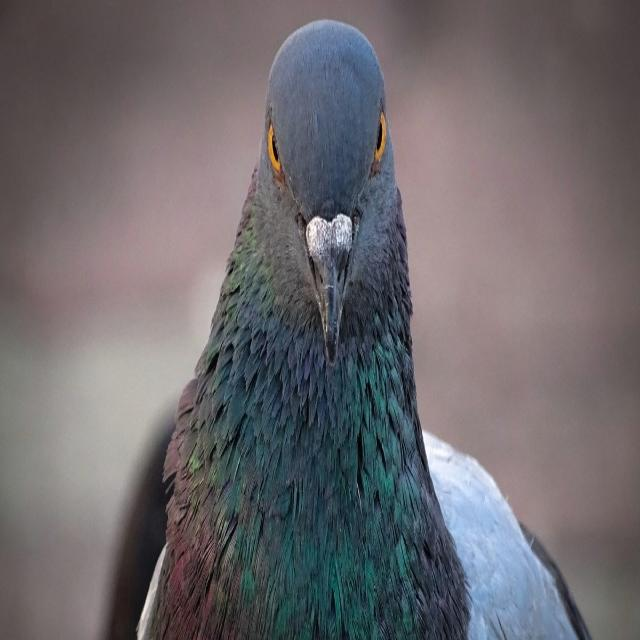pigeon: (138, 20, 590, 639)
